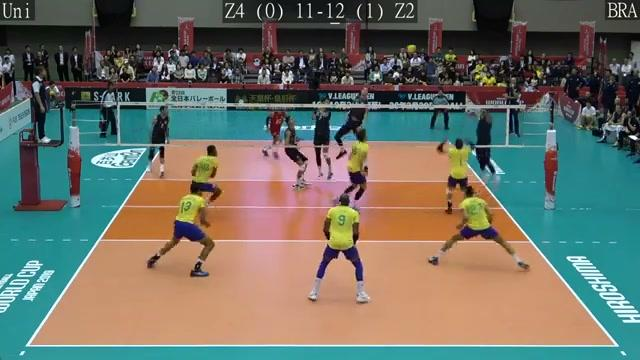ball: (406, 44, 418, 57)
